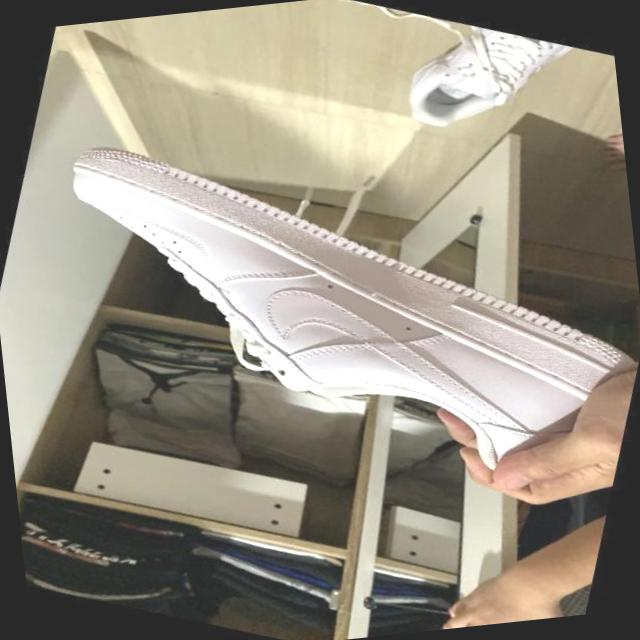nike_original_airforce: (1, 82, 640, 553)
